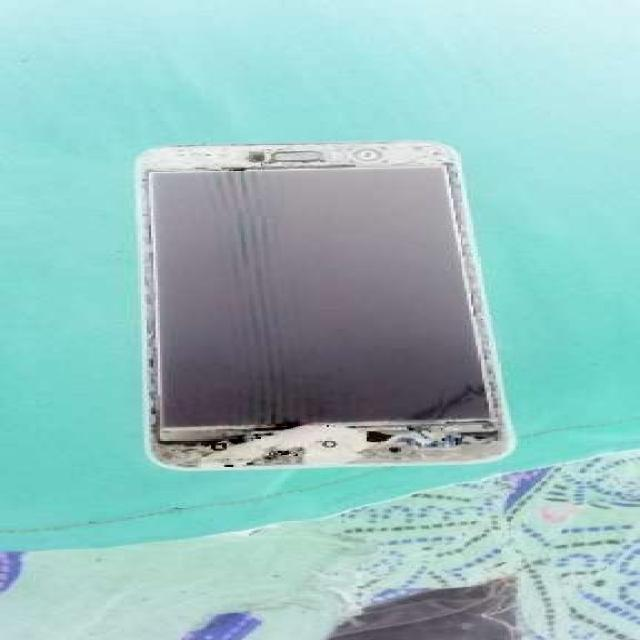mobile phone: (131, 138, 518, 472)
